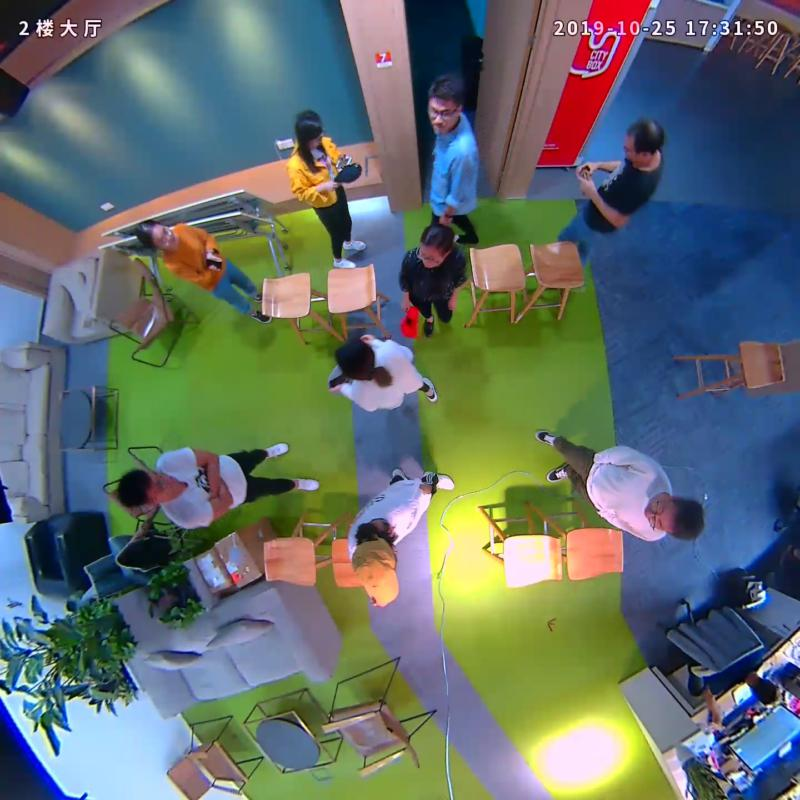head: (351, 533, 400, 606), (643, 491, 706, 540), (117, 468, 176, 510), (426, 72, 464, 134), (622, 117, 665, 162), (334, 340, 376, 383), (419, 223, 452, 269), (135, 220, 179, 249), (294, 110, 323, 147)
